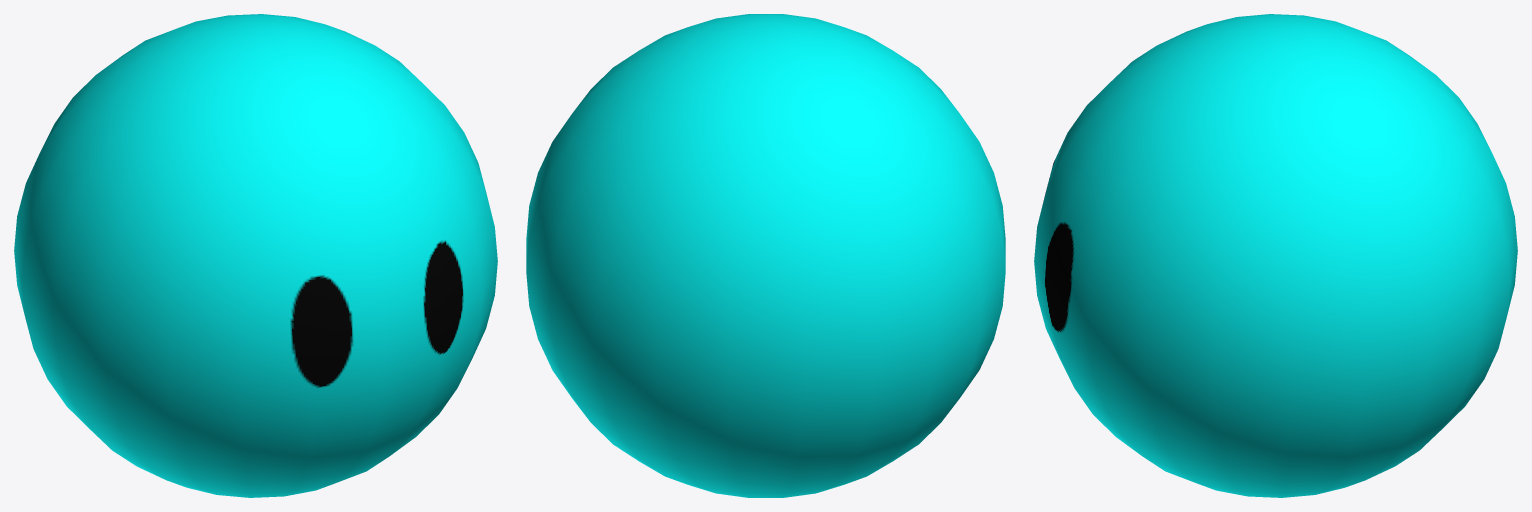
Rendered from MonsterB.fbx.
3 views of the same model, side by side, from view 1: azimuth 30°, elevation 25°; view 2: azimuth 150°, elevation 25°; view 3: azimuth 270°, elevation 25° (orthographic).
Visible parts, largest first — view 1: obj1; view 2: obj1; view 3: obj1.
Boxes of the visible parts, x1,y1,x2,y2 form: obj1: (14,14,497,497); obj1: (526,14,1005,497); obj1: (1034,14,1517,497).
Size of the model in its own units: 1.35 by 1.35 by 1.35.
1 material, 1 textured.
